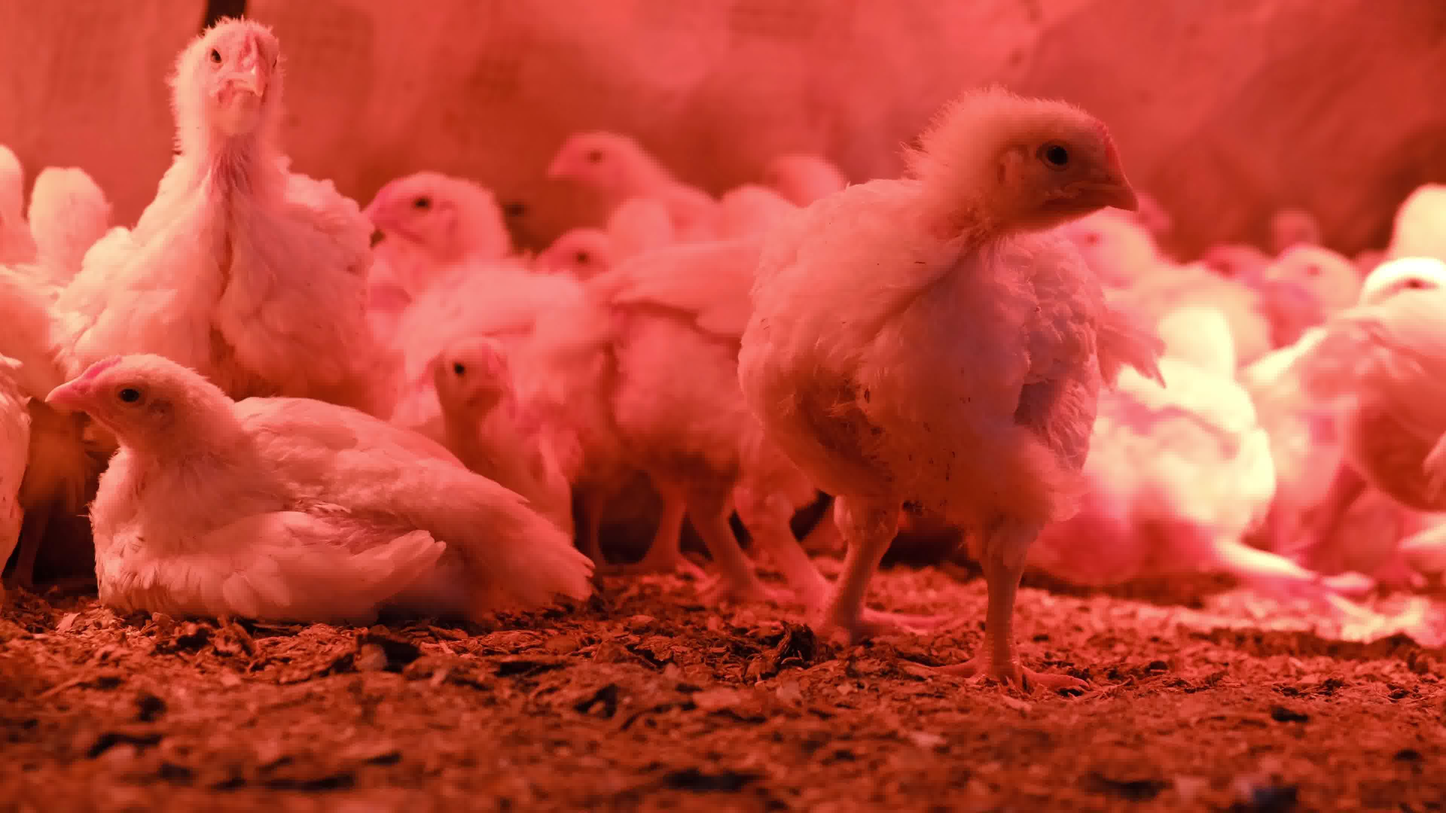AbNormal: (62, 348, 580, 608), (1073, 327, 1280, 595)
Normal: (725, 73, 1105, 685), (132, 0, 371, 378), (578, 239, 800, 595), (1305, 273, 1446, 587), (410, 329, 567, 480), (361, 167, 518, 307), (0, 141, 136, 295), (535, 104, 685, 207), (1256, 222, 1358, 314), (540, 224, 602, 339)
